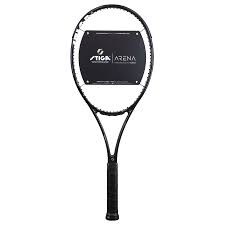tennis racket: (70, 4, 155, 221)
